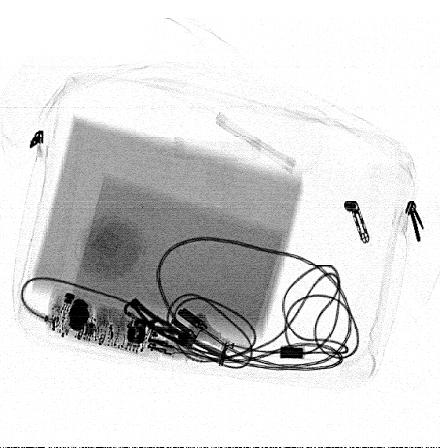Knife: (124, 296, 234, 360)
